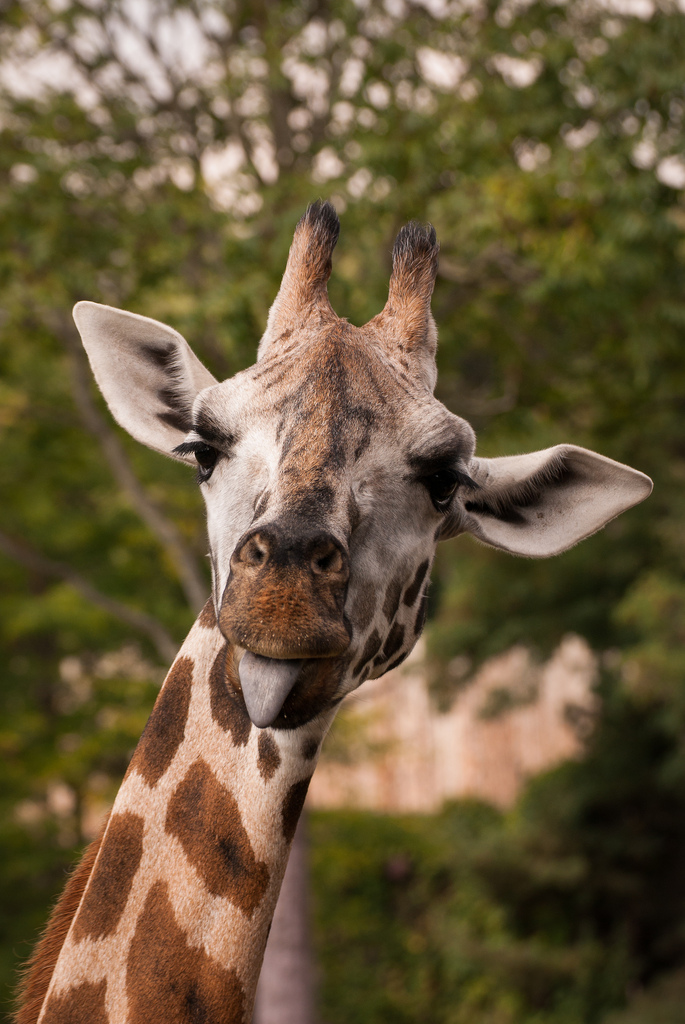giraffe: (56, 199, 611, 946)
